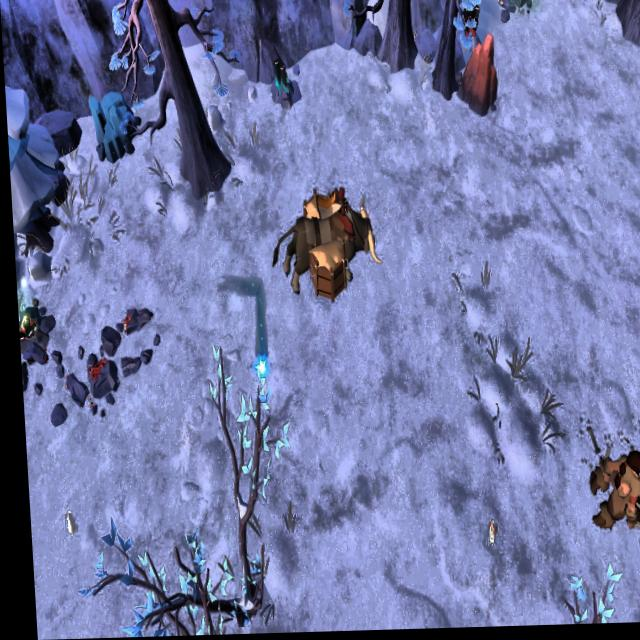enemy_factionKeeper: (580, 446, 640, 546)
ore_t4: (270, 56, 291, 98)
ore_t5: (455, 0, 482, 43)
rock_t4: (85, 92, 140, 166)
rock_t5: (452, 29, 501, 121)
